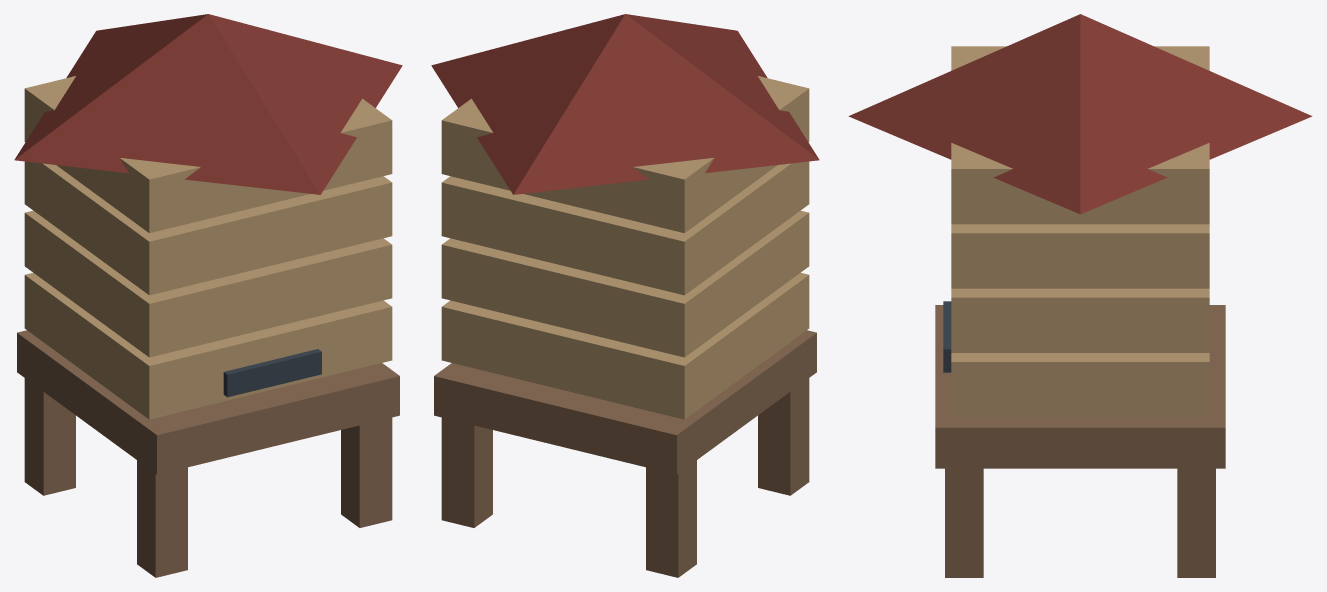
Rendered from var_beehive.glb.
3 renders of one model, left to right at view 1: azimuth 30°, elevation 25°; view 2: azimuth 150°, elevation 25°; view 3: azimuth 270°, elevation 25°, orthographic. The views are drawn at different scales.
Visible parts, largest first — view 1: var_beehive; view 2: var_beehive; view 3: var_beehive.
Part boxes in pixels (x1,y1,x2,y2): var_beehive: (14, 14, 402, 577); var_beehive: (431, 14, 819, 577); var_beehive: (848, 14, 1312, 577).
Bounding box in the file's own units: 1.44 × 1.72 × 1.44.
